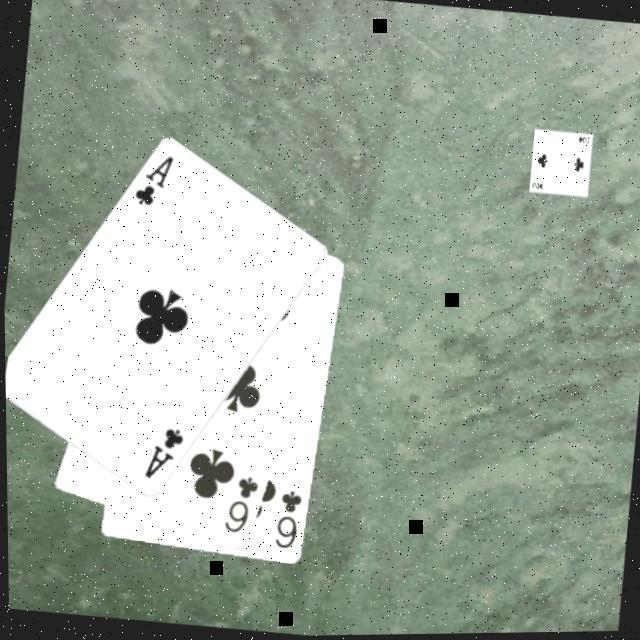6C: (220, 471, 263, 536), (269, 486, 307, 552)
AC: (140, 421, 189, 484), (130, 147, 179, 210)
